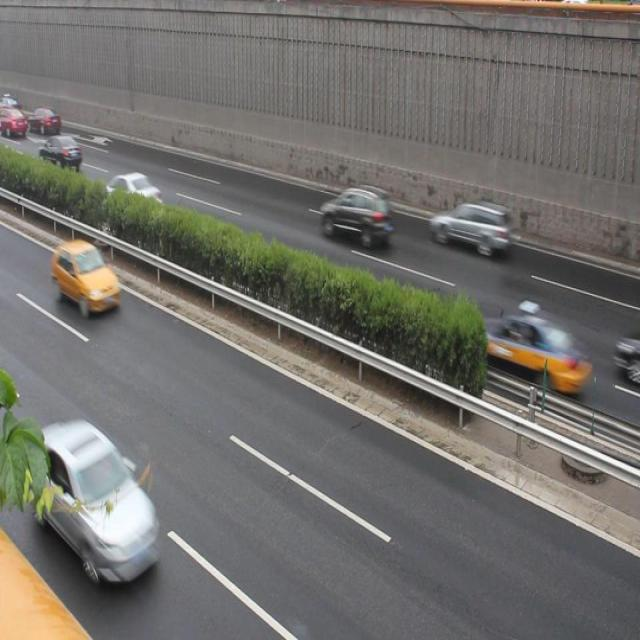car: (24, 418, 162, 580), (461, 300, 594, 400), (47, 240, 129, 312), (430, 199, 516, 262), (313, 176, 392, 244), (101, 166, 163, 218), (41, 133, 84, 174)
